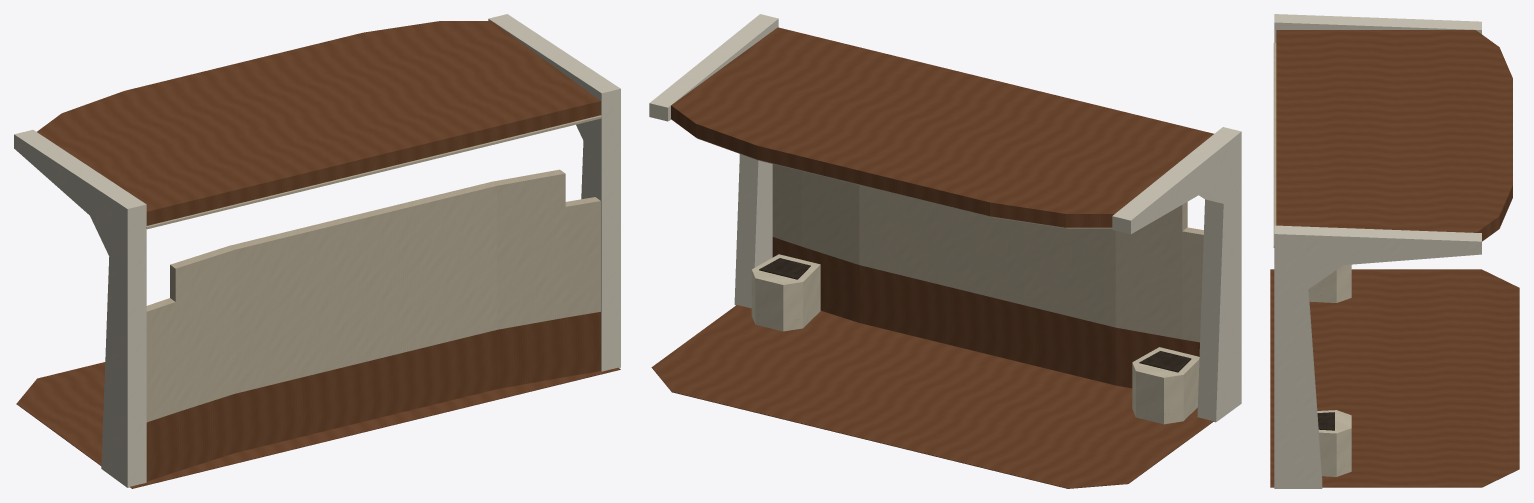
Rendered from AST-RES-003.glb.
3 renders of one model, left to right at view 1: azimuth 30°, elevation 25°; view 2: azimuth 150°, elevation 25°; view 3: azimuth 270°, elevation 25°, orthographic. The views are drawn at different scales.
Parts seen in each view (by area): view 1: TALK_SweptCanopy, TALK_FacetedBack_2, TALK_EndBearing_0, TALK_BackDado_2, TALK_FacetedBack_3, TALK_VisualFloor, TALK_EndBearing_1, TALK_FacetedBack_1, TALK_FacetedBack_4, TALK_BackDado_3, TALK_BackDado_1, TALK_FacetedBack_0 (+3 smaller); view 2: TALK_SweptCanopy, TALK_VisualFloor, TALK_FacetedBack_2, TALK_EndBearing_0, TALK_BackDado_2, TALK_FacetedBack_1, TALK_EndBearing_1, TALK_FacetedBack_3, TALK_PlantedEnd_1, TALK_PlantedEnd_0, TALK_BackDado_3, TALK_FacetedBack_0 (+4 smaller); view 3: TALK_SweptCanopy, TALK_VisualFloor, TALK_EndBearing_1, TALK_EndBearing_0, TALK_PlantedEnd_1, TALK_PlantedEnd_0, TALK_SoftSoffit, TALK_Soil_1.
Part boxes in pixels (x1,y1,x2,y2): TALK_SweptCanopy: (37,21,600,225); TALK_FacetedBack_2: (229,181,497,393); TALK_EndBearing_0: (14,130,146,487); TALK_BackDado_2: (234,330,497,452); TALK_FacetedBack_3: (492,169,565,329); TALK_VisualFloor: (16,362,620,488); TALK_EndBearing_1: (488,14,620,371); TALK_FacetedBack_1: (170,246,234,412); TALK_FacetedBack_4: (565,197,600,317); TALK_BackDado_3: (497,317,565,388); TALK_BackDado_1: (175,394,234,471); TALK_FacetedBack_0: (146,298,175,422); TALK_SweptCanopy: (671,27,1213,227); TALK_VisualFloor: (651,305,1213,488); TALK_FacetedBack_2: (859,185,1115,327); TALK_EndBearing_0: (1112,127,1241,422); TALK_BackDado_2: (859,265,1115,385); TALK_FacetedBack_1: (1115,202,1187,339); TALK_EndBearing_1: (649,14,778,308); TALK_FacetedBack_3: (801,171,859,264); TALK_PlantedEnd_1: (751,254,820,331); TALK_PlantedEnd_0: (1132,347,1199,424); TALK_BackDado_3: (801,247,859,322); TALK_FacetedBack_0: (1182,227,1203,342); TALK_SweptCanopy: (1276,30,1512,241); TALK_VisualFloor: (1270,269,1519,487); TALK_EndBearing_1: (1274,225,1481,488); TALK_EndBearing_0: (1274,14,1481,42); TALK_PlantedEnd_1: (1317,410,1351,476); TALK_PlantedEnd_0: (1308,264,1351,302); TALK_SoftSoffit: (1273,43,1276,247); TALK_Soil_1: (1317,412,1334,430).
Bounding box in the file's own units: 6.2 × 3.35 × 2.97.
Materials: 7 (6 with a texture image).
